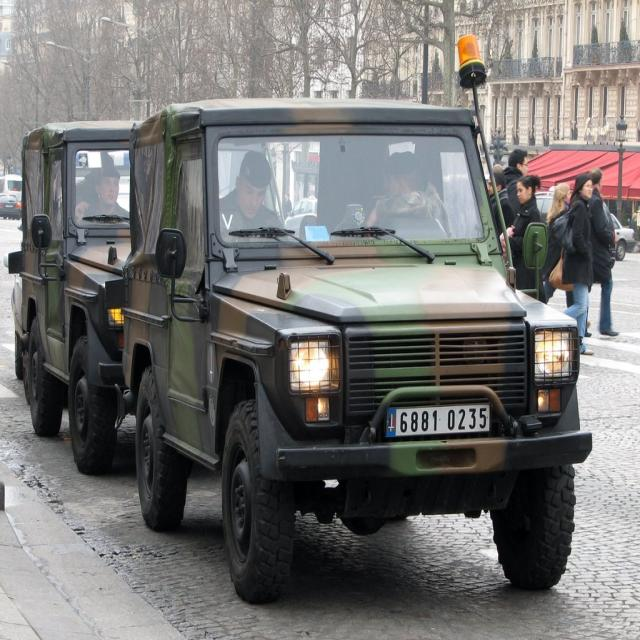Car: (0, 193, 22, 220)
